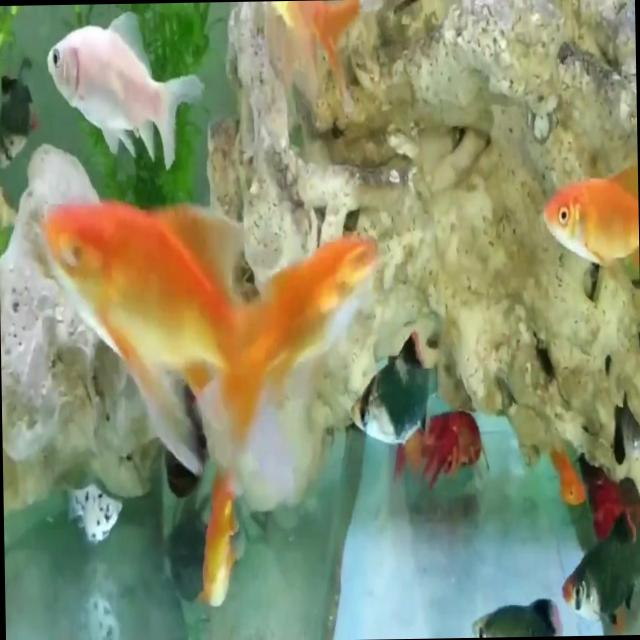GoldFish: (32, 163, 388, 520), (30, 8, 212, 172), (532, 130, 640, 282)
